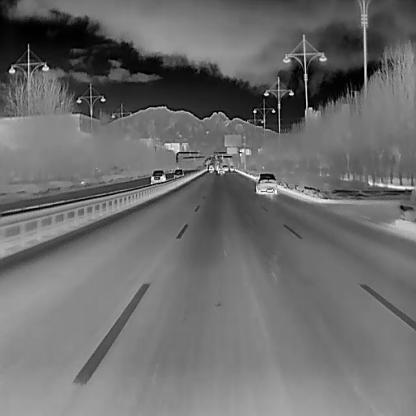car: (255, 172, 277, 194), (149, 169, 166, 184), (172, 168, 183, 177), (207, 164, 214, 173), (217, 166, 224, 174), (222, 164, 228, 172), (229, 164, 234, 171)
